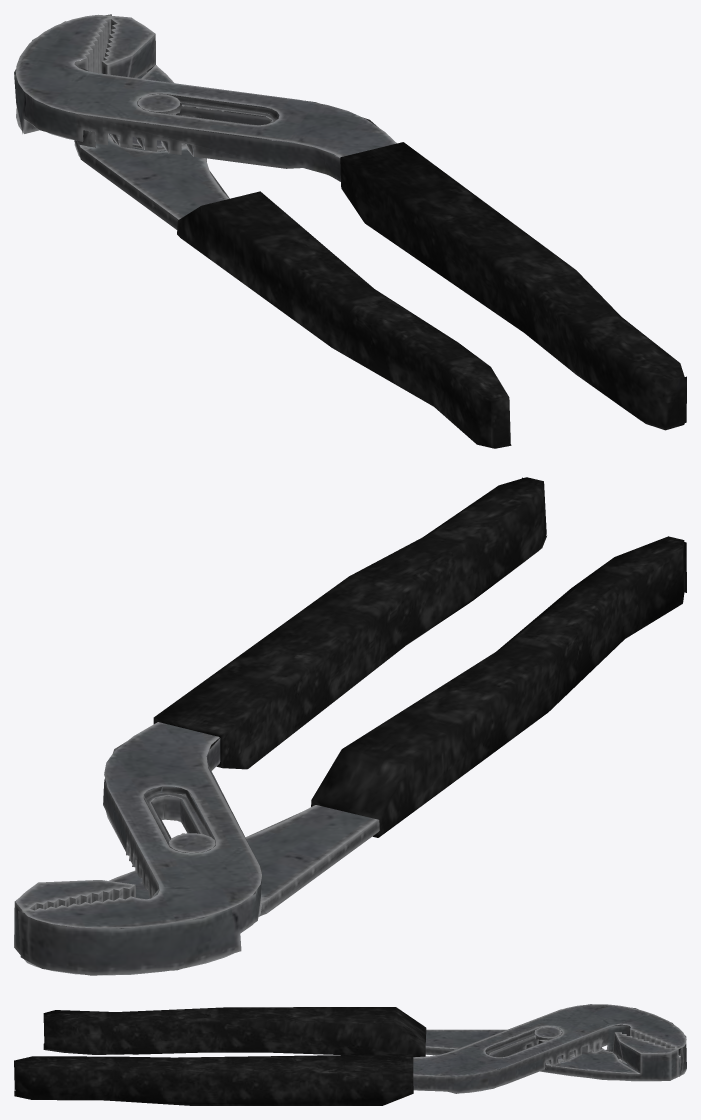
The model's file is tongue_groove_pliers.glb.
The picture shows the model from 3 angles, top to bottom: view 1: azimuth 30°, elevation 25°; view 2: azimuth 150°, elevation 25°; view 3: azimuth 270°, elevation 25°; orthographic projection. The views are drawn at different scales.
Parts seen in each view (by area): view 1: tongue_groove_pliers; view 2: tongue_groove_pliers; view 3: tongue_groove_pliers.
Part boxes in pixels (x1,y1,x2,y2): tongue_groove_pliers: [14, 14, 686, 448]; tongue_groove_pliers: [14, 477, 686, 975]; tongue_groove_pliers: [14, 1004, 686, 1105].
Bounding box in the file's own units: 0.0624 × 0.0138 × 0.2439.
1 material, 1 textured.
